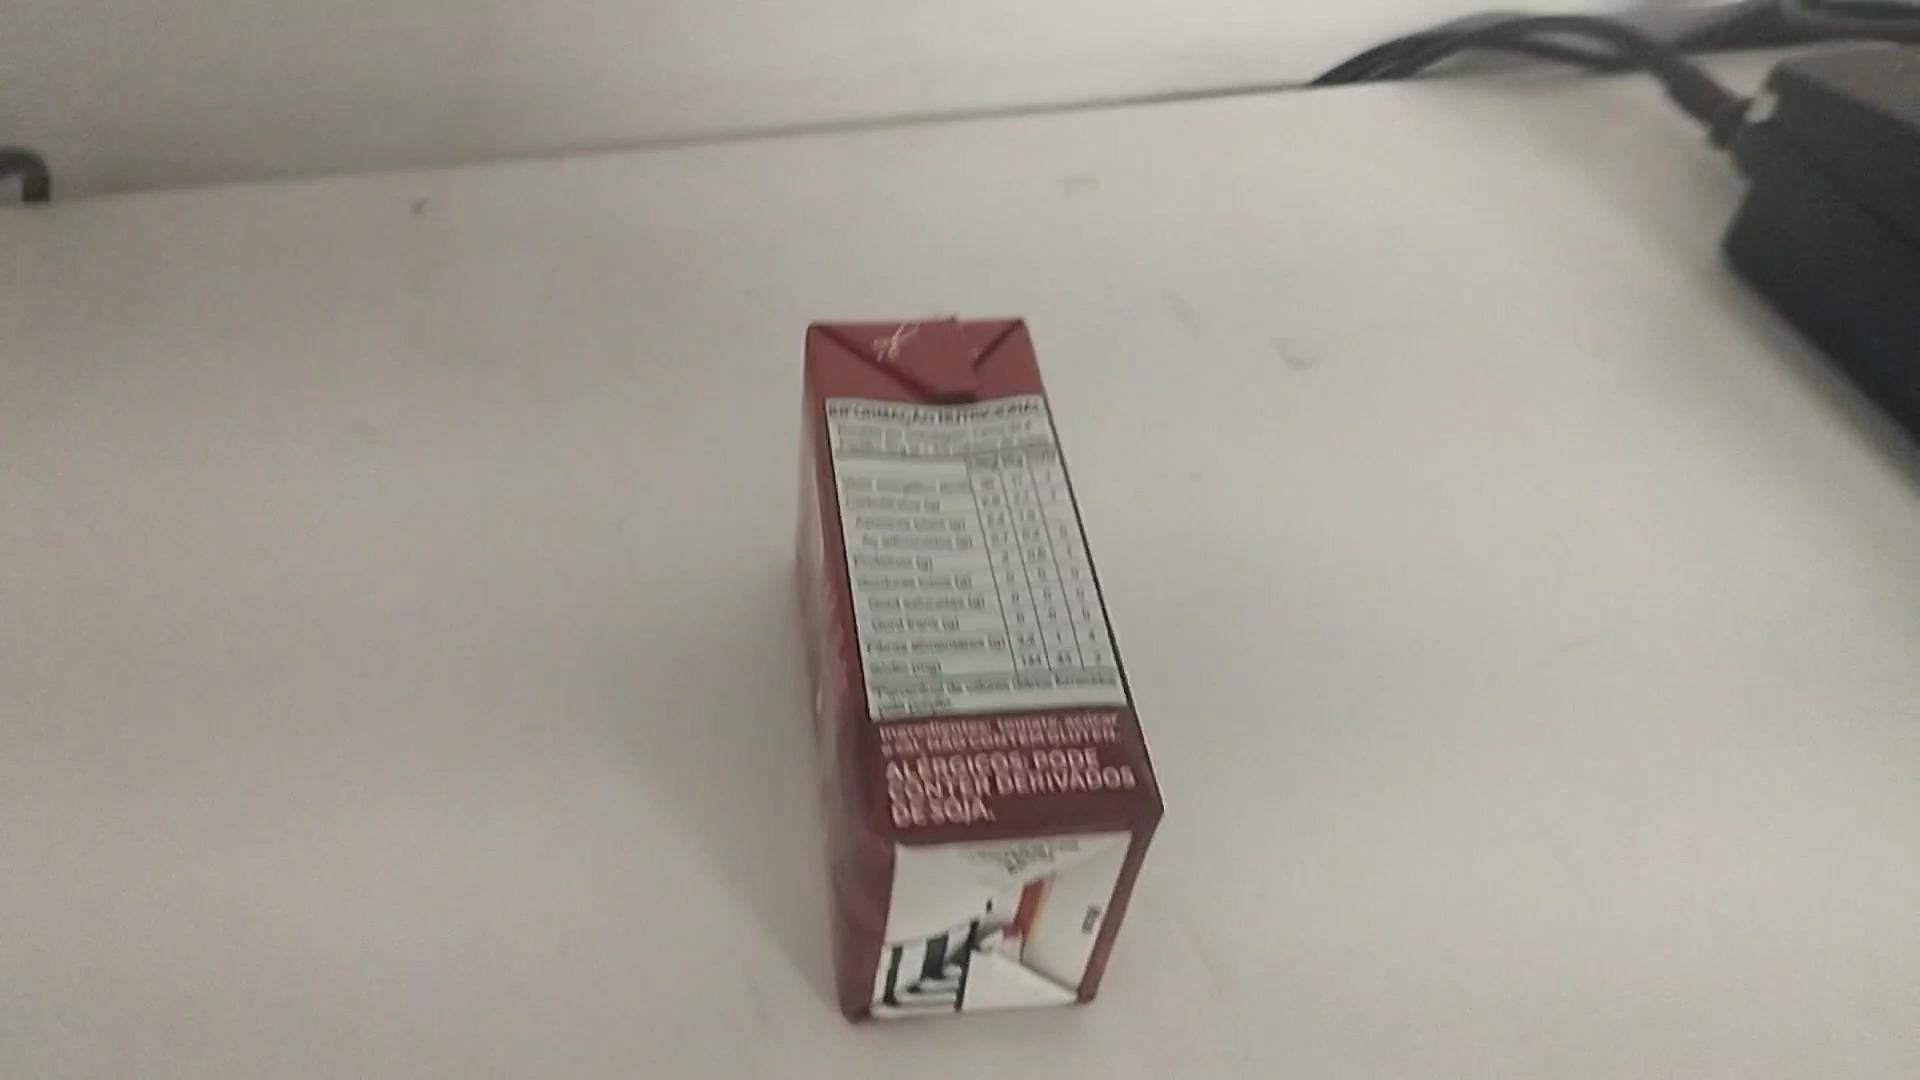tomate: (790, 314, 1164, 1028)
